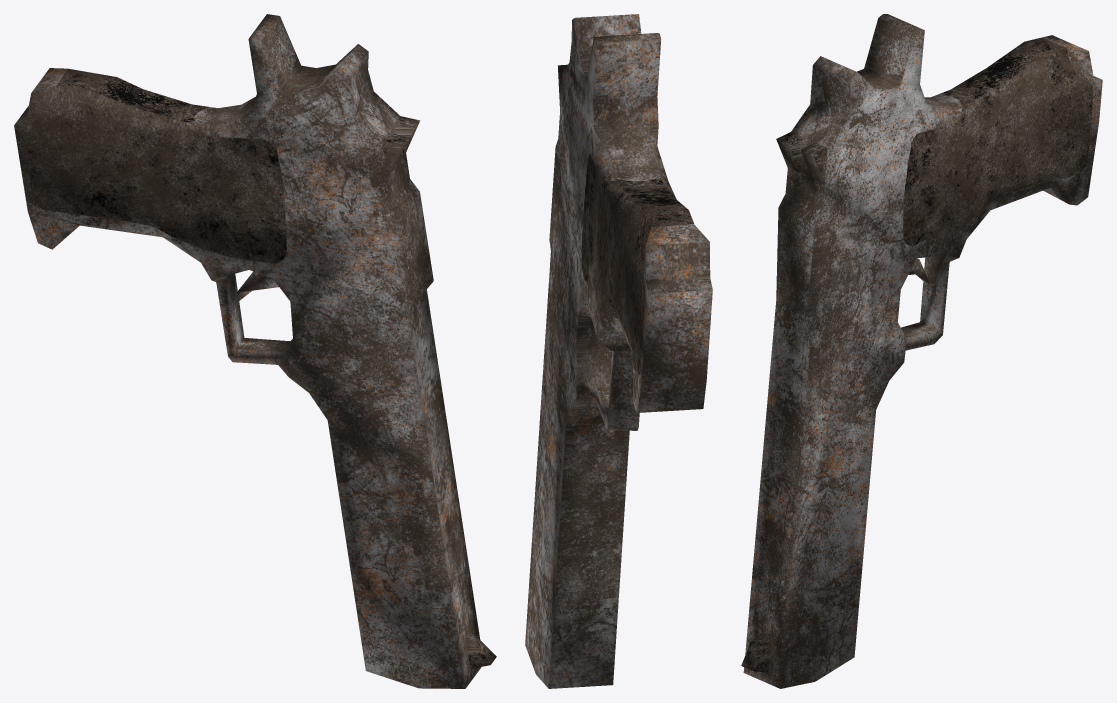
File: Anim_idle_pistola_objetos.0051.obj
The picture shows the model from 3 angles, left to right: view 1: azimuth 30°, elevation 25°; view 2: azimuth 150°, elevation 25°; view 3: azimuth 270°, elevation 25°; orthographic projection. The views are drawn at different scales.
Parts seen in each view (by area): view 1: Pistola1; view 2: Pistola1; view 3: Pistola1.
Boxes of the visible parts, x1,y1,x2,y2 form: Pistola1: (14,14,496,688); Pistola1: (525,14,712,688); Pistola1: (741,14,1102,688).
Bounding box in the file's own units: 0.8745 × 1.67 × 0.9088.
